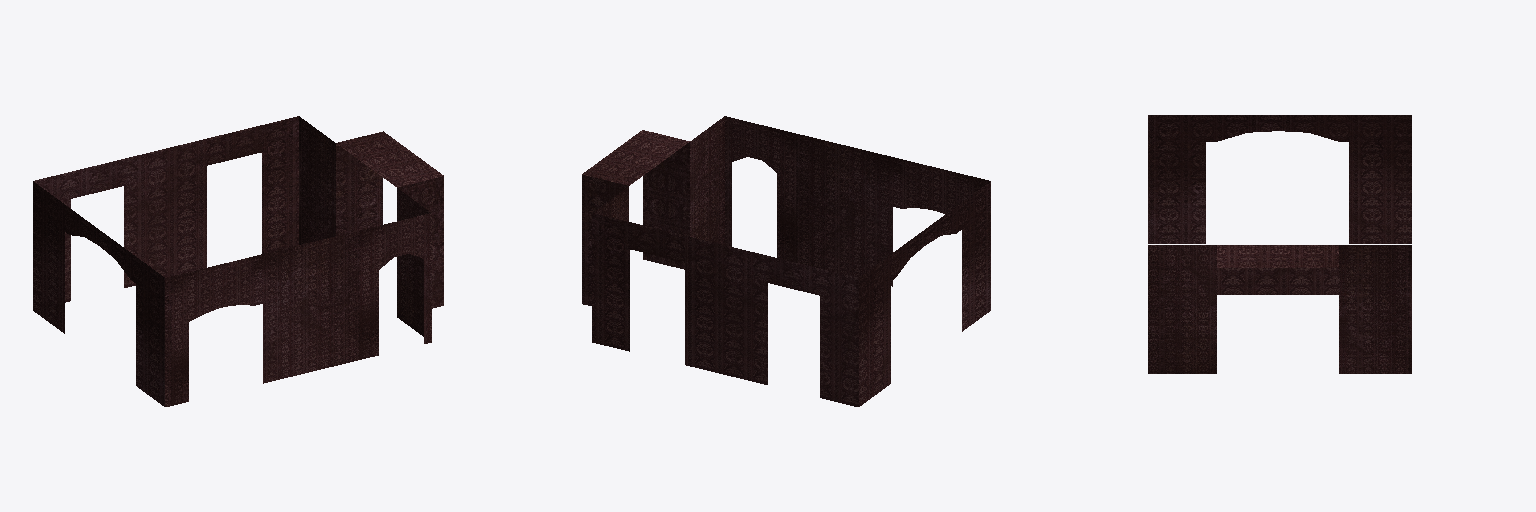
3 renders of one model, left to right at view 1: azimuth 30°, elevation 25°; view 2: azimuth 150°, elevation 25°; view 3: azimuth 270°, elevation 25°, orthographic.
Visible parts, largest first — view 1: Kitchen_GEO_GRP1_Base_Wall; view 2: Kitchen_GEO_GRP1_Base_Wall; view 3: Kitchen_GEO_GRP1_Base_Wall.
Boxes of the visible parts, x1,y1,x2,y2 form: Kitchen_GEO_GRP1_Base_Wall: [33, 116, 443, 406]; Kitchen_GEO_GRP1_Base_Wall: [582, 116, 990, 406]; Kitchen_GEO_GRP1_Base_Wall: [1148, 115, 1411, 373].
Bounding box in the file's own units: 8.57 × 3.38 × 6.27.
1 materials, 1 textured.